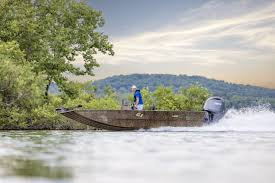boat: (55, 96, 228, 133)
